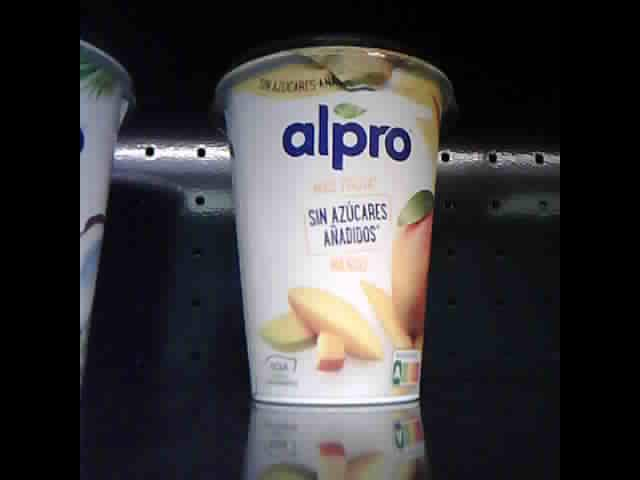alpro: (212, 33, 457, 410), (79, 30, 137, 394)
